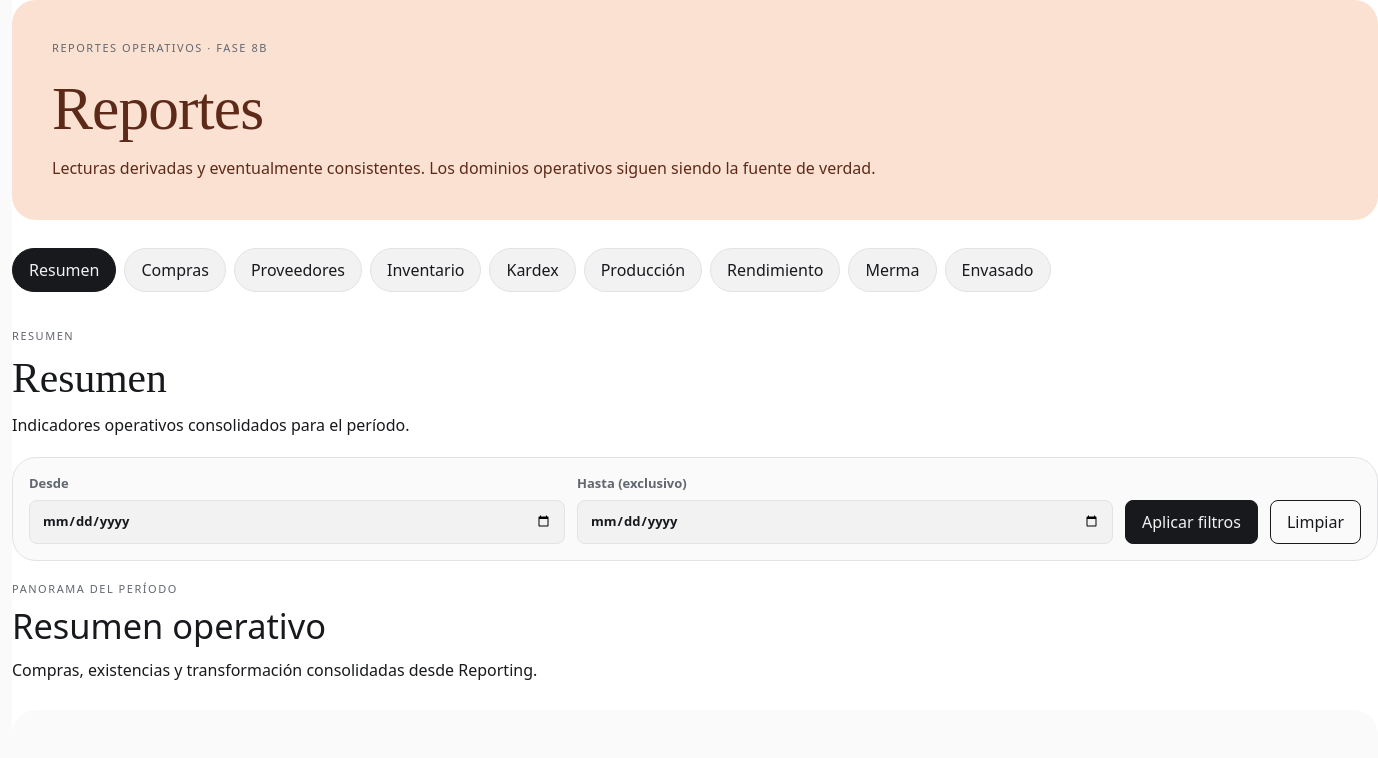
Scenario: expone filtros propios de compras sin consultar mientras se escriben
Step 1. Click the button "Compras" → (175, 270), box top-left (124, 248), bottom-right (226, 292)
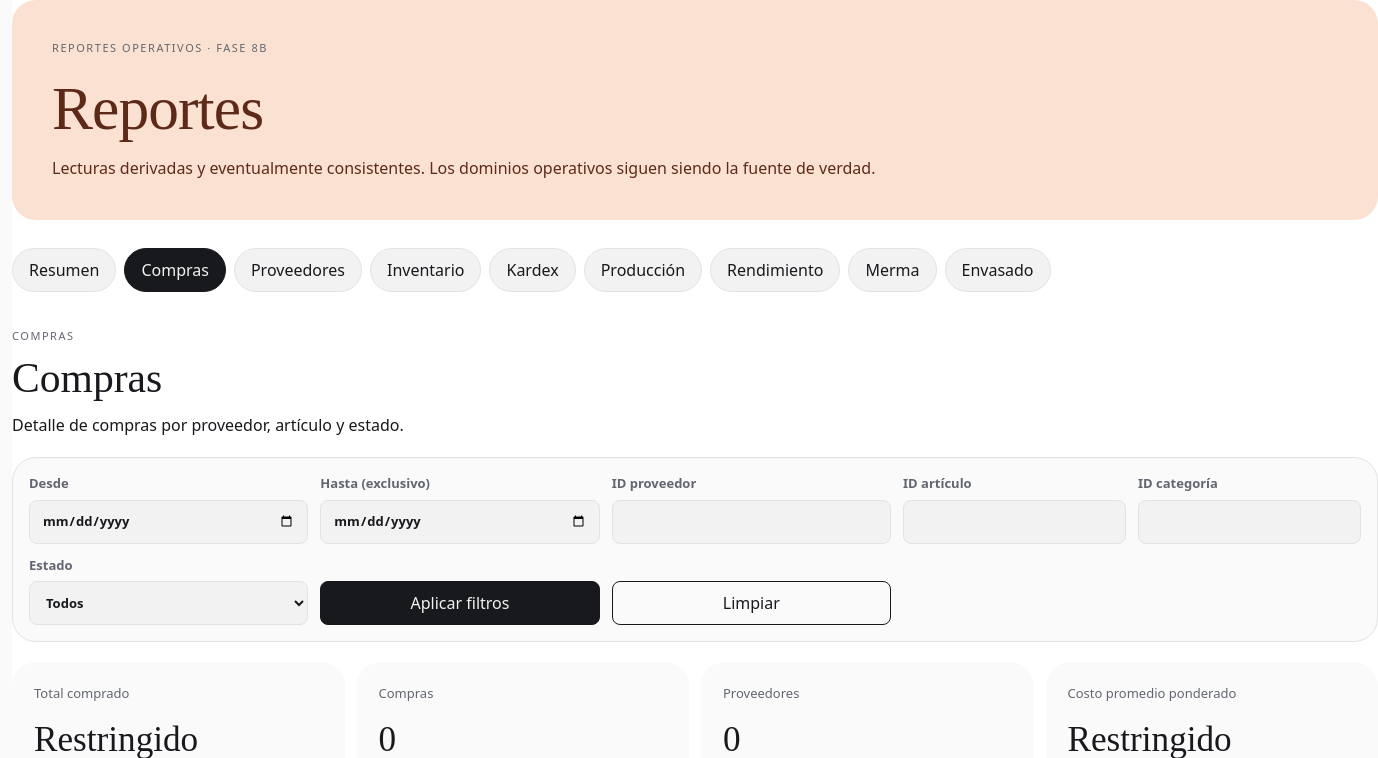
expect the text "ID proveedor" is shown: met, box top-left (612, 474), bottom-right (891, 544)
expect the text "ID artículo" is shown: met, box top-left (903, 474), bottom-right (1126, 544)
expect the text "ID categoría" is shown: met, box top-left (1138, 474), bottom-right (1361, 544)
